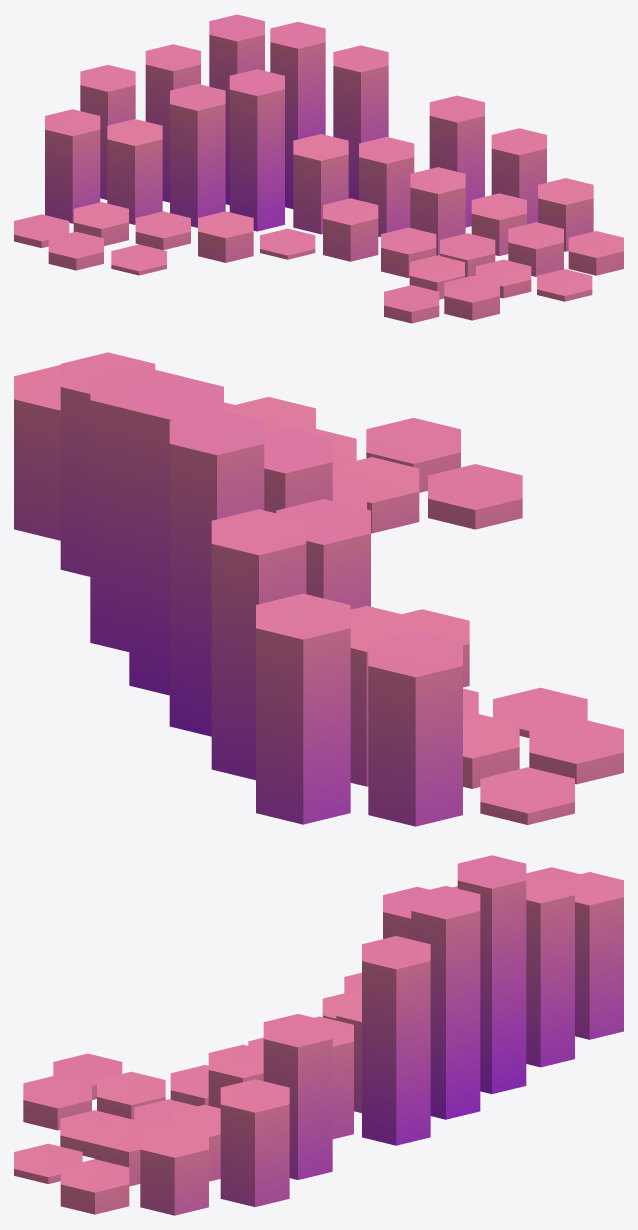
The model's file is Sand_bricks_mars.fbx.
3 renders of one model, top to bottom at view 1: azimuth 30°, elevation 25°; view 2: azimuth 150°, elevation 25°; view 3: azimuth 270°, elevation 25°, orthographic. The views are drawn at different scales.
Parts seen in each view (by area): view 1: Sands_bricks; view 2: Sands_bricks; view 3: Sands_bricks.
Boxes of the visible parts, x1,y1,x2,y2 form: Sands_bricks: [14, 14, 623, 323]; Sands_bricks: [14, 352, 623, 826]; Sands_bricks: [14, 855, 623, 1215].
Bounding box in the file's own units: 476 × 169 × 456.
Materials: 1 (1 with a texture image).
